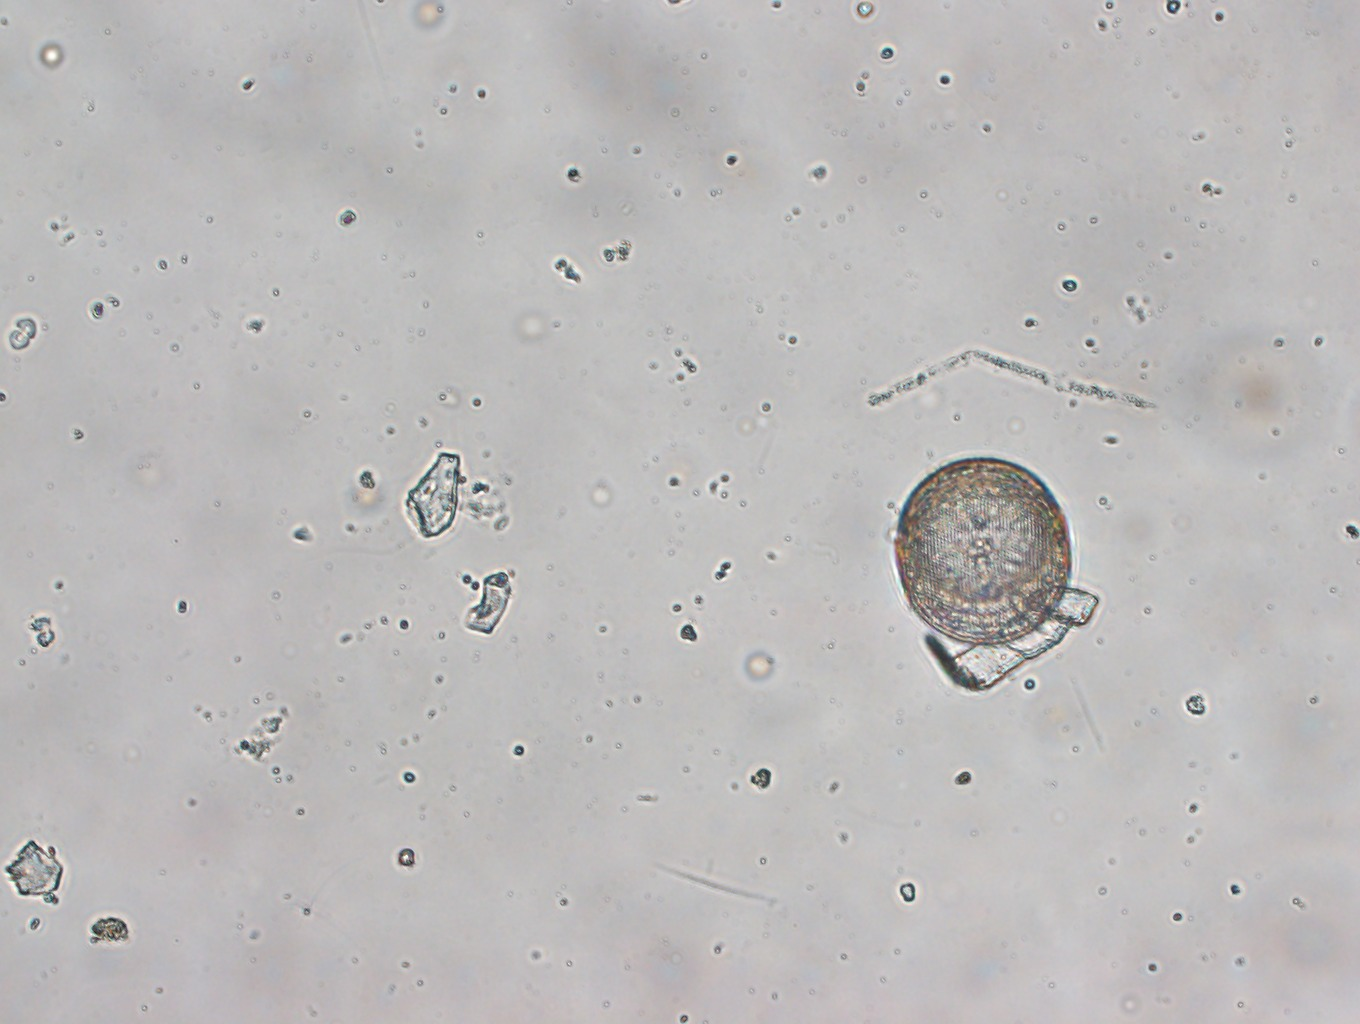coscinodiscus: (891, 456, 1073, 644)
